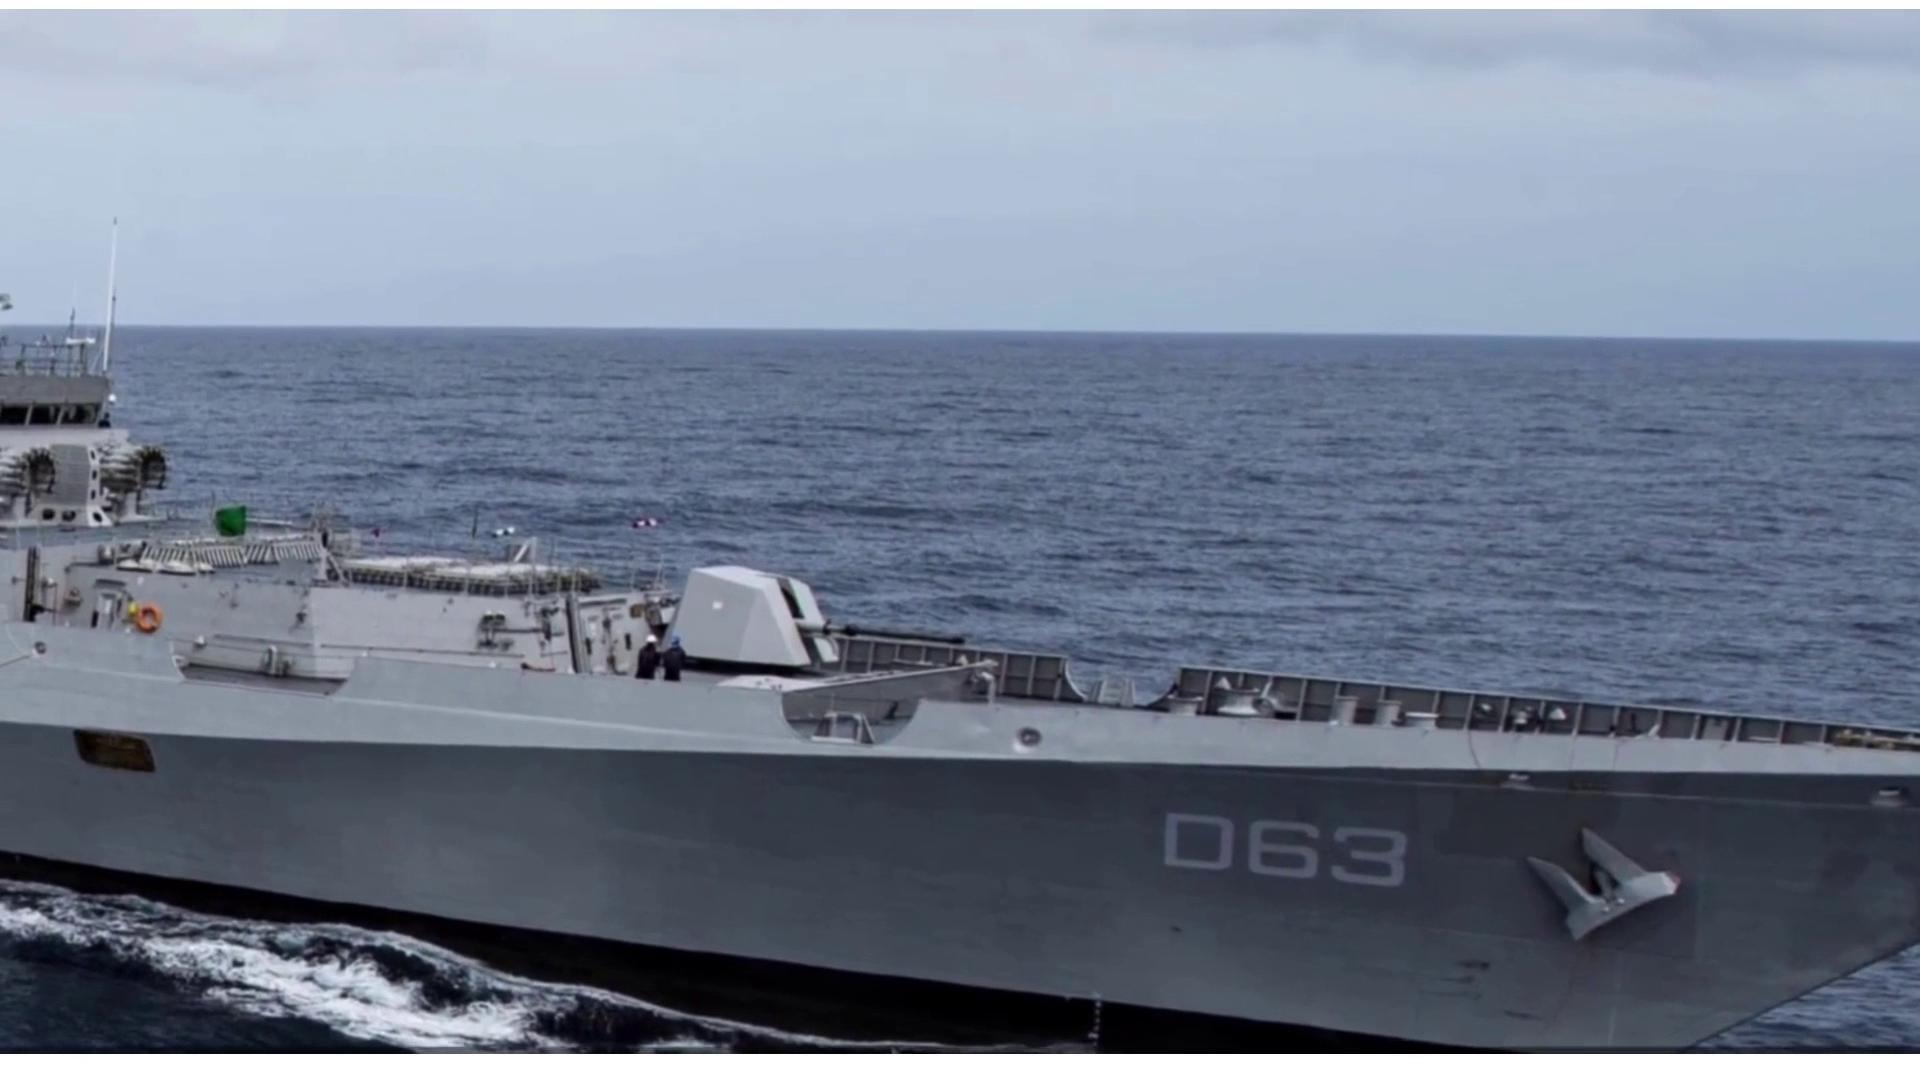OCR: (1142, 791, 1422, 903)
